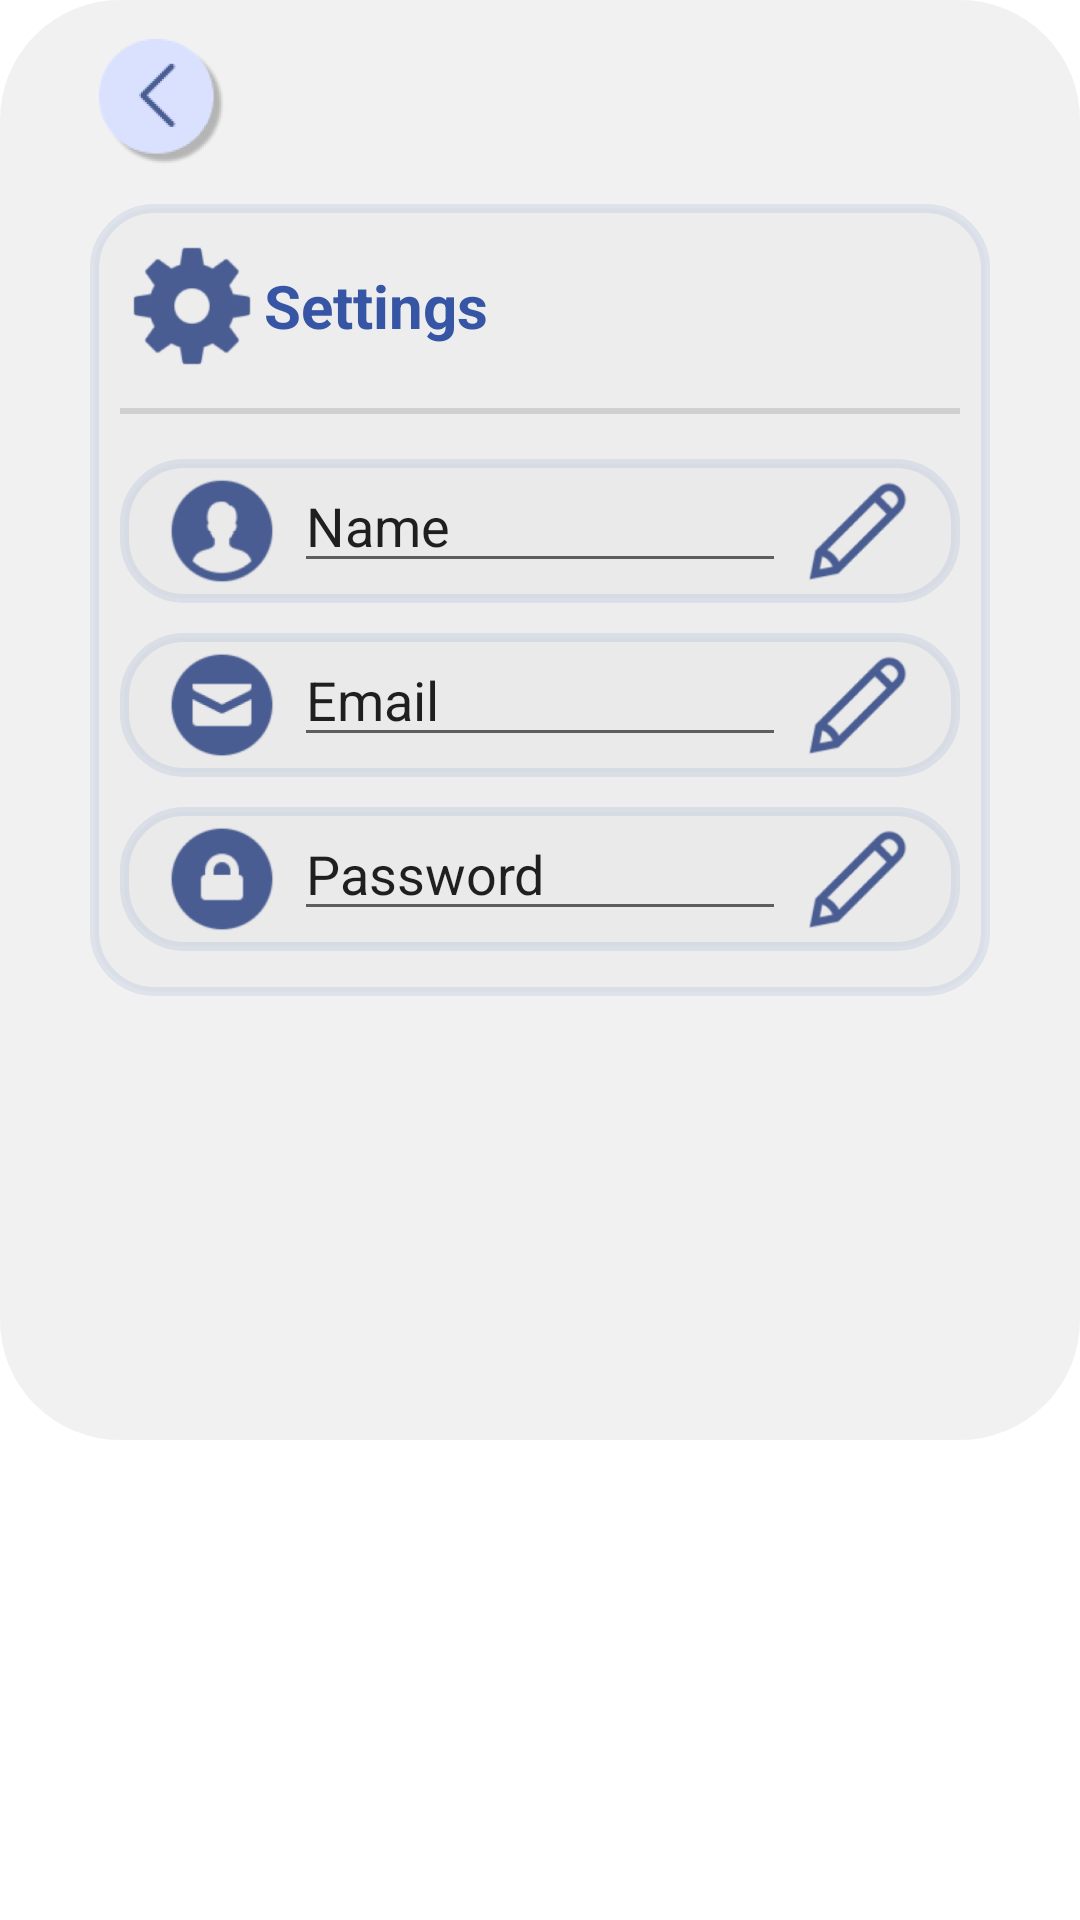

Icon click points for this 1080px×1920px phone screenshot, format point (x, y):
back: point (161, 101)
edit field: point (857, 531), point (857, 705), point (857, 879)
